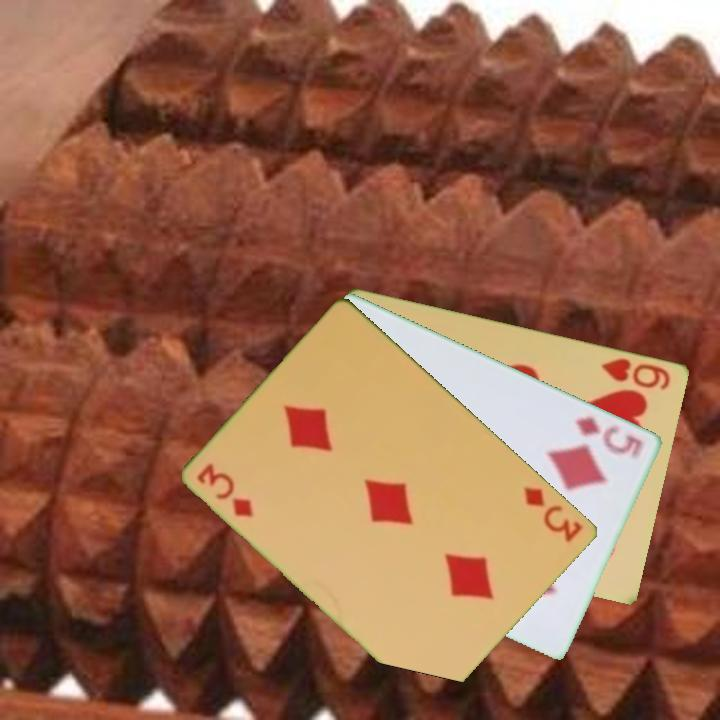3d: (520, 483, 586, 545), (193, 459, 257, 520)
5d: (571, 413, 646, 461)
6h: (598, 354, 674, 393)
